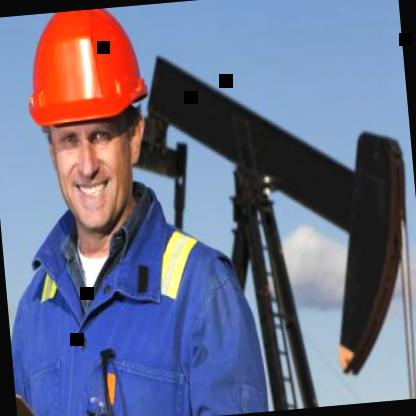helmet: (10, 5, 174, 258)
